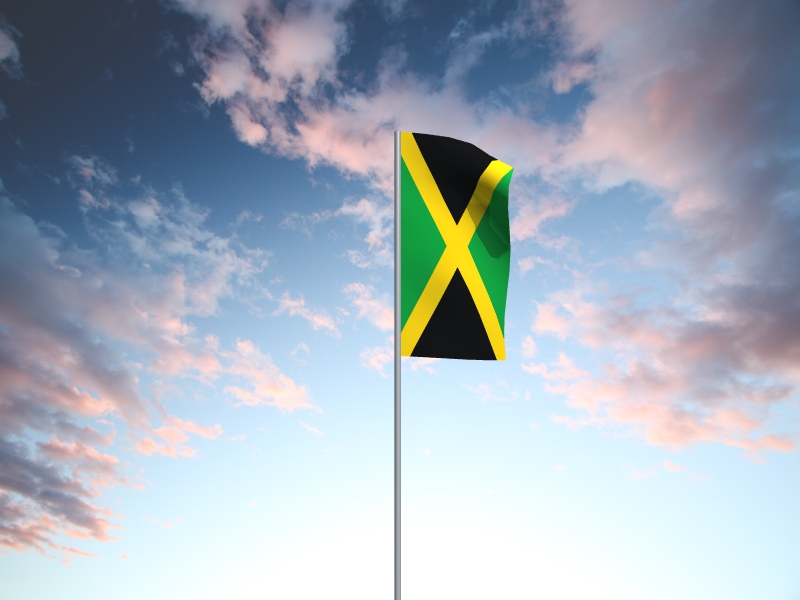jm: (401, 132, 515, 362)
